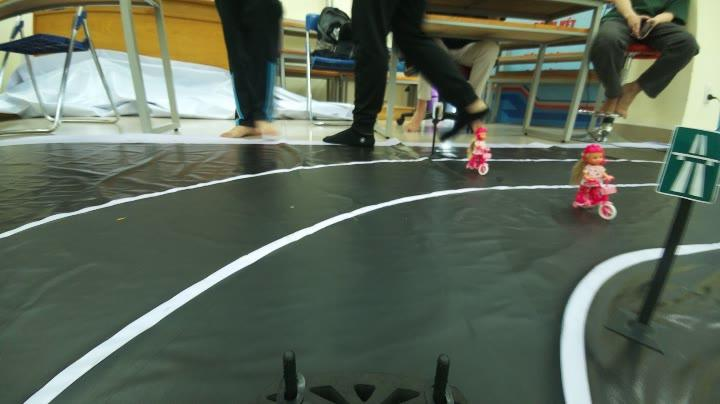highway_entry: (658, 122, 717, 204)
pedestrian: (564, 138, 623, 219), (466, 128, 492, 176)
